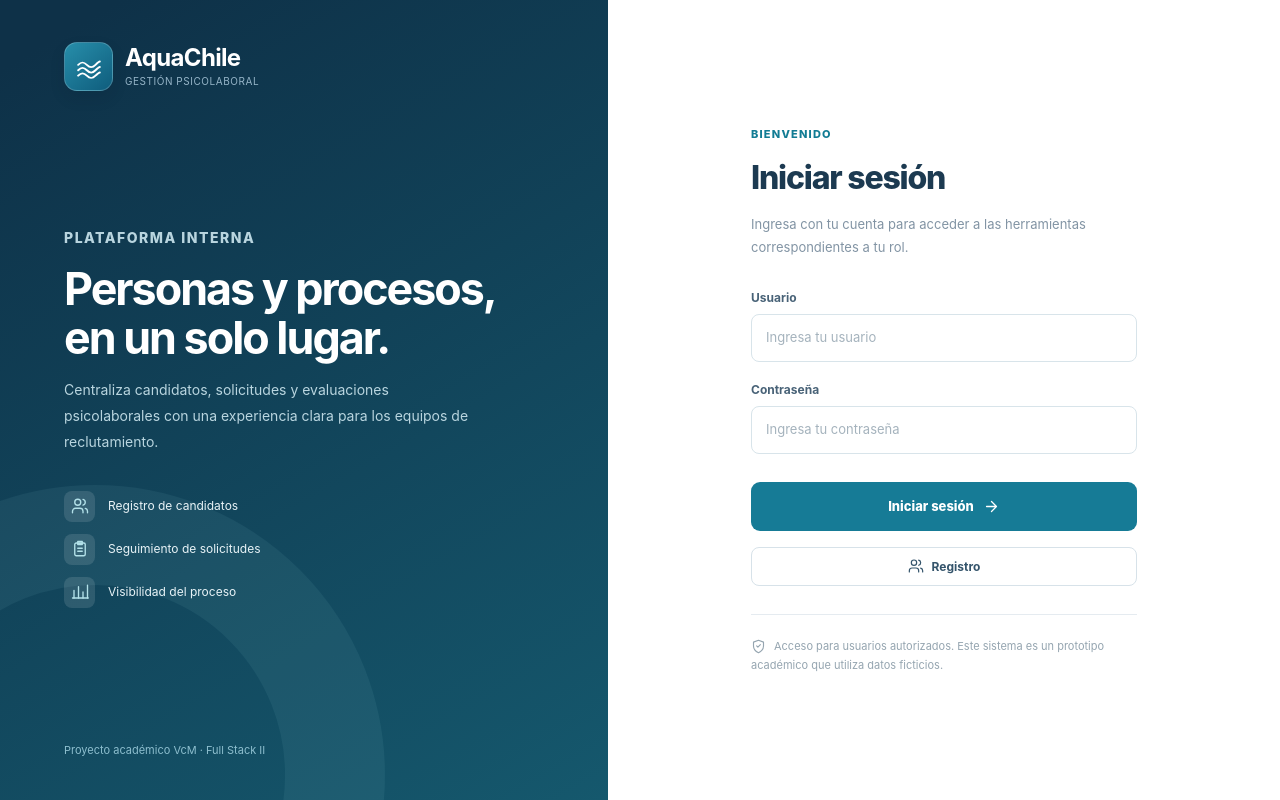
Test: Pruebas unitarias e integradas - Login, Registro y Verificación › debe mostrar error si el registro falla en el backend
Click the button "Registro" at (944, 566), box [751, 547, 1137, 586]
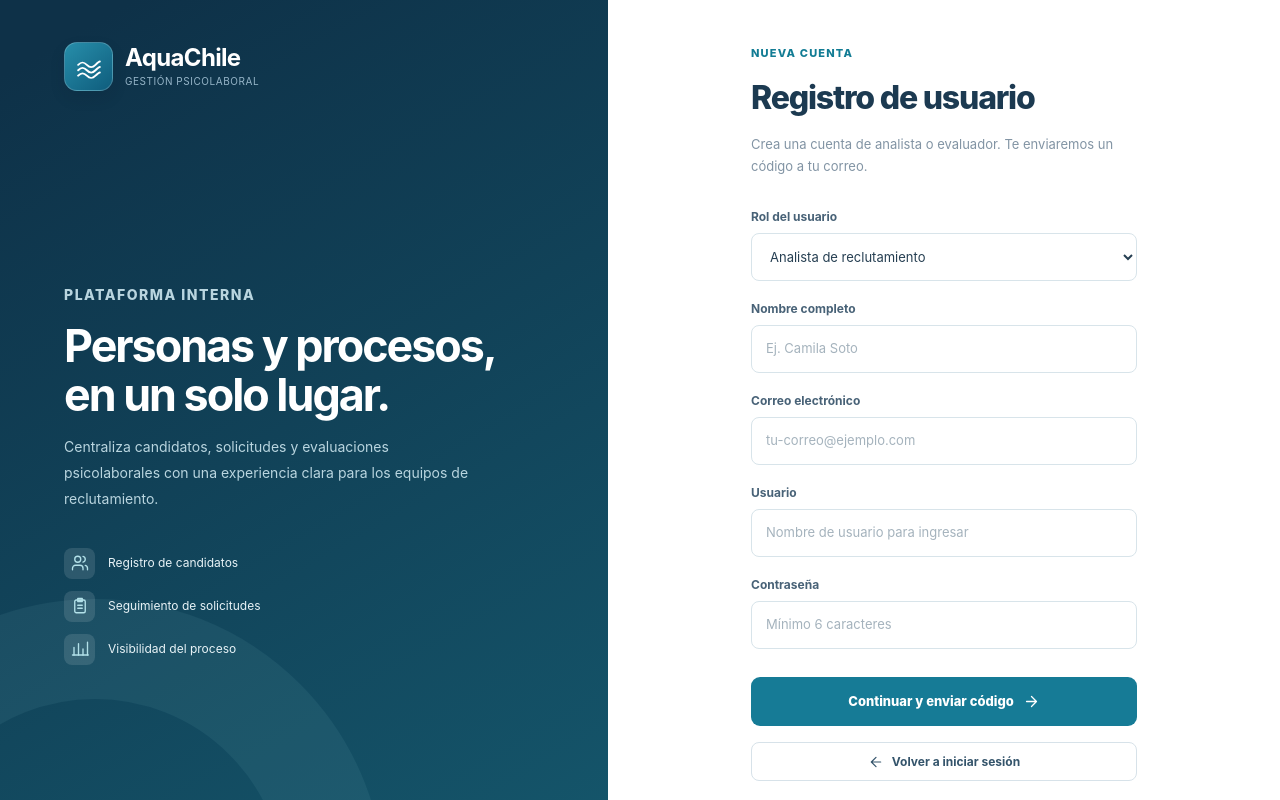
Type "Ana López" into the field labelled "Nombre completo" at (944, 349), box [751, 325, 1137, 373]
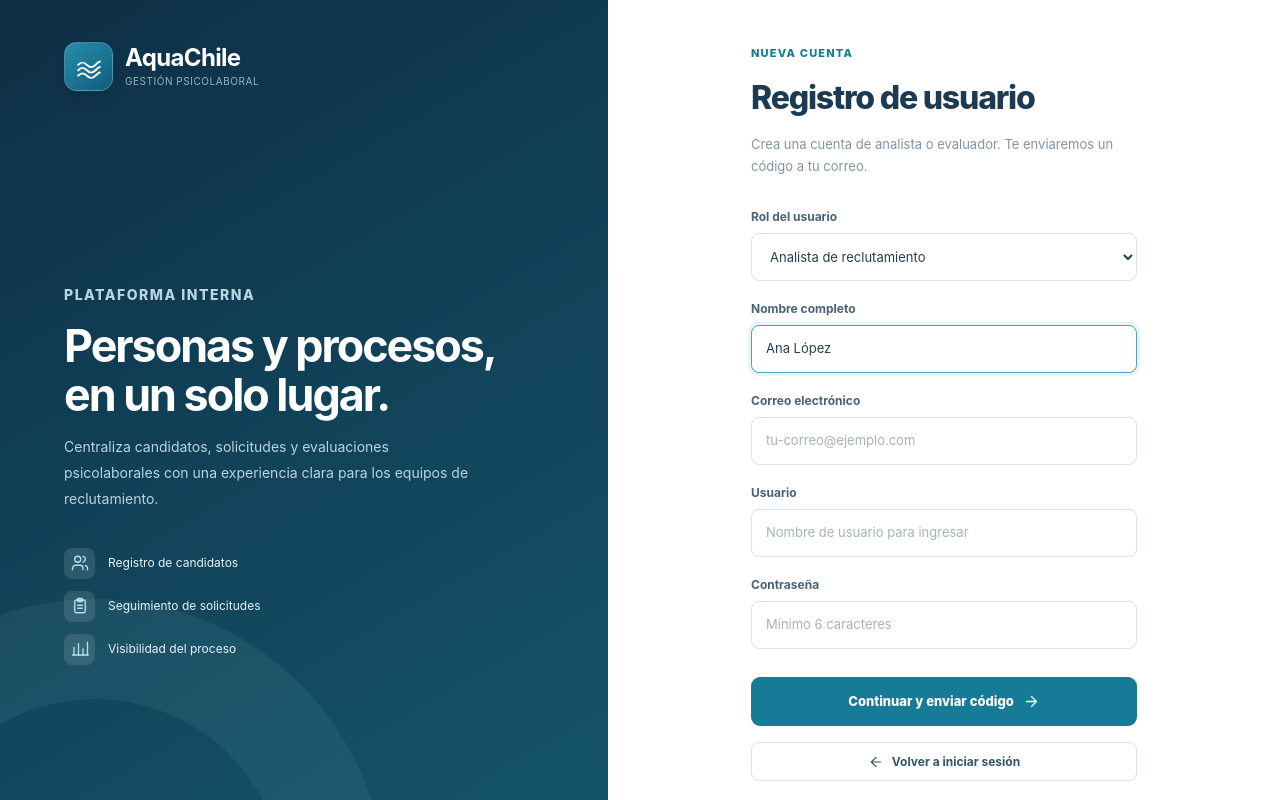
Type "ana@ejemplo.cl" into the field labelled "Correo electrónico" at (944, 441), box [751, 417, 1137, 465]
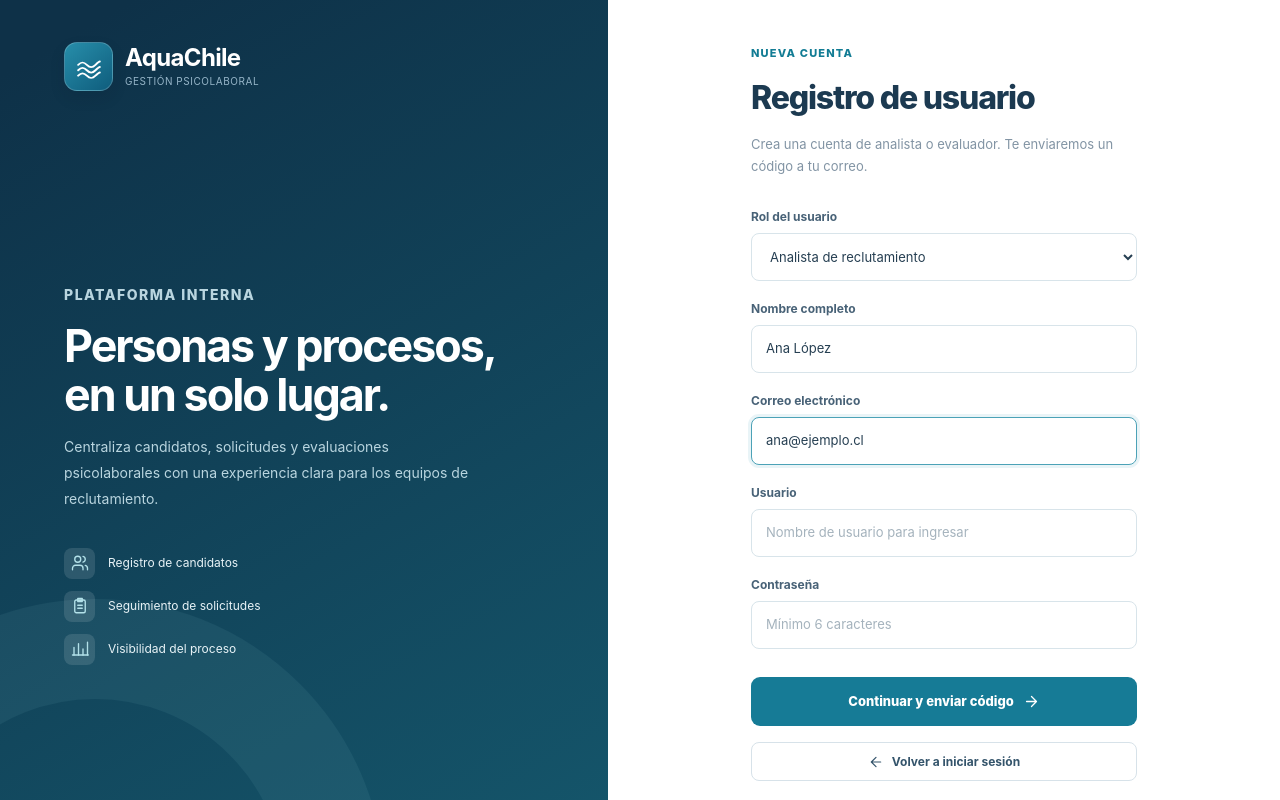
Type "analopez" into the field labelled "Usuario" at (944, 533), box [751, 509, 1137, 557]
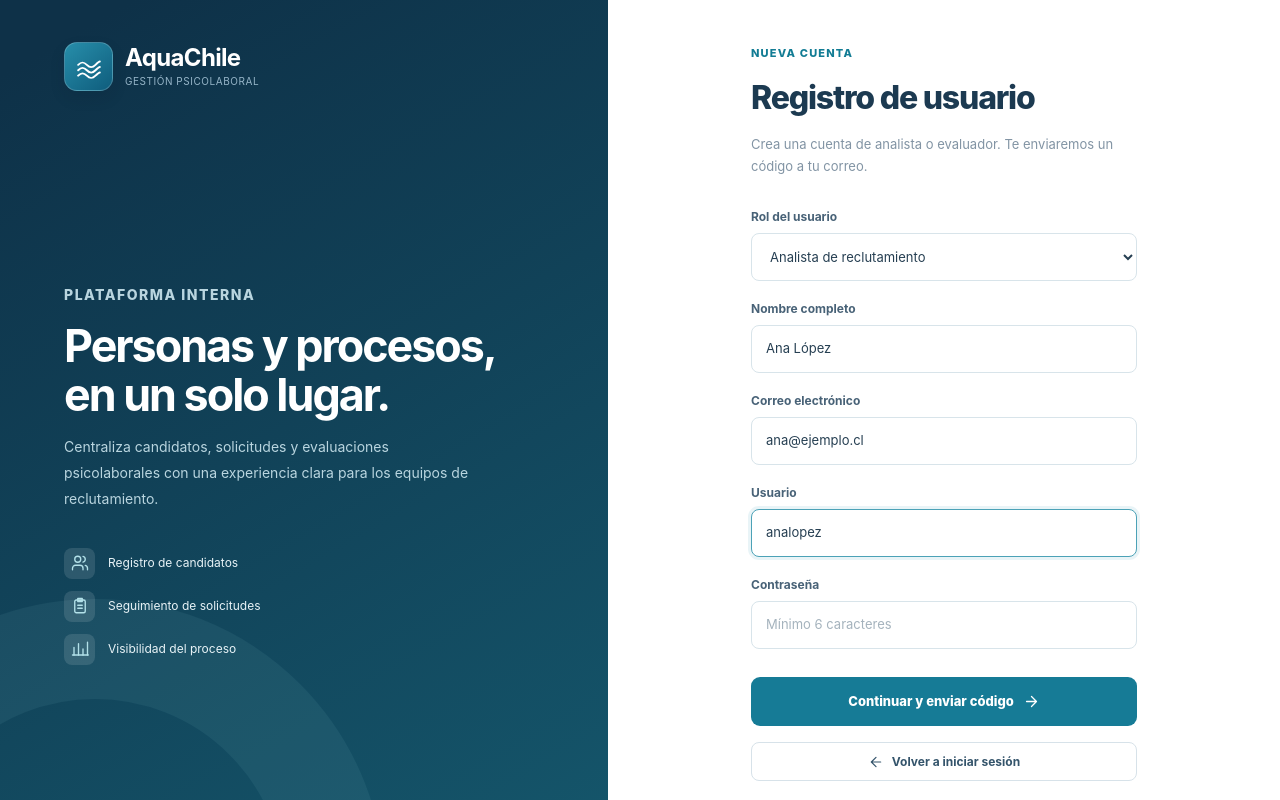
Type "clave123" into the password field labelled "Contraseña" at (944, 625), box [751, 601, 1137, 649]
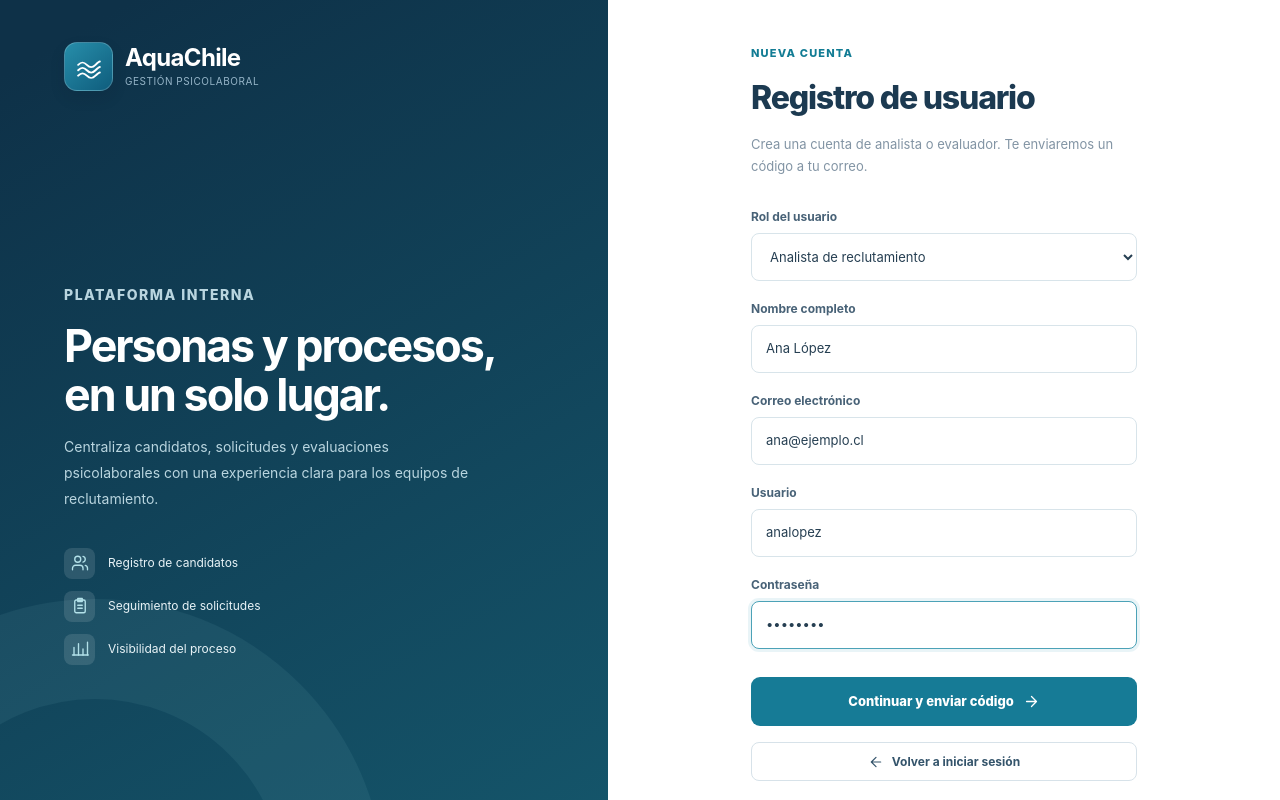
Click the button "Continuar y enviar código" at (944, 702), box [751, 677, 1137, 726]
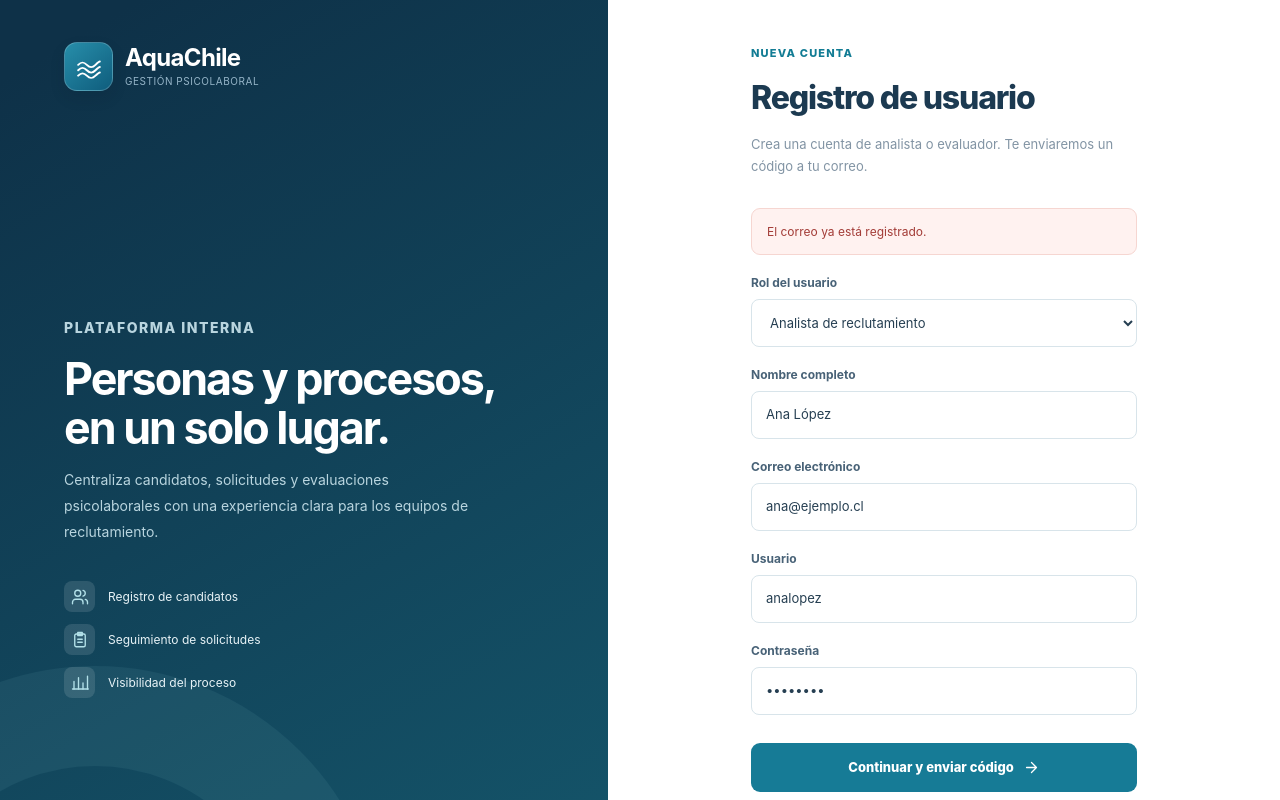
Expected: the message reads "El correo ya está registrado.", [767, 224, 926, 239]
